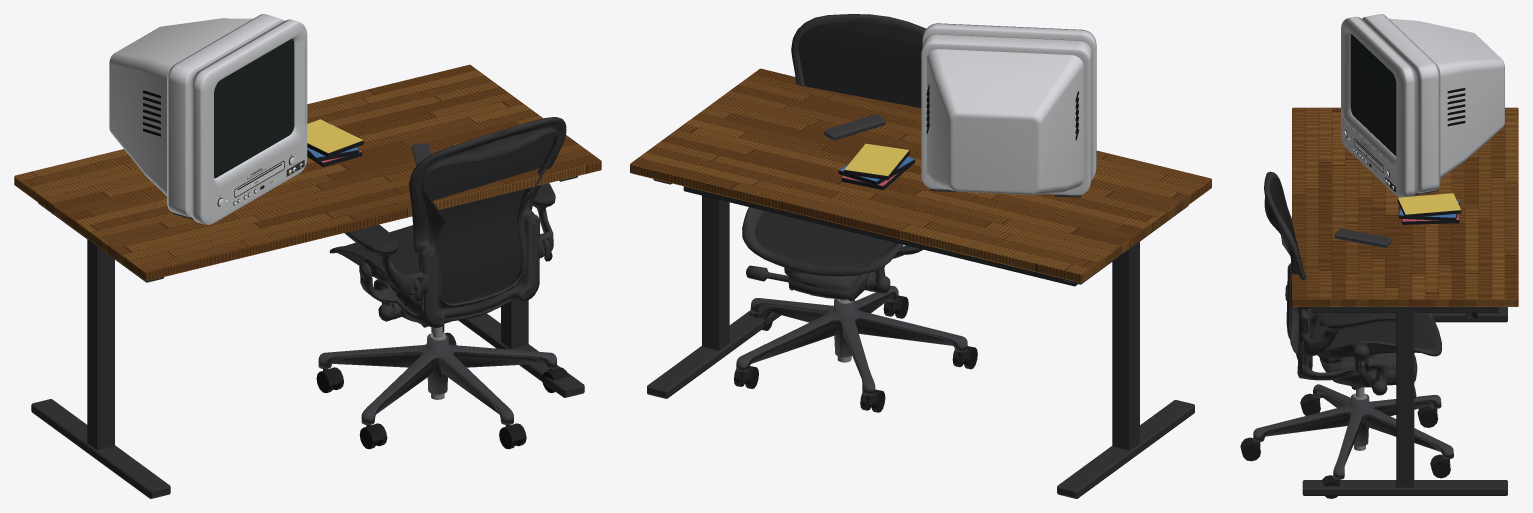
File: props.glb
The picture shows the model from 3 angles, left to right: view 1: azimuth 30°, elevation 25°; view 2: azimuth 150°, elevation 25°; view 3: azimuth 270°, elevation 25°; orthographic projection. The views are drawn at different scales.
Visible parts, largest first — view 1: Cube, SEAT-FABRICBACK, body, SEAT-FRAME, rear, glass, SEAT-BASE, Cube.001, back_shell, SEAT-CHASSIS, Cube.002, SEAT-CASTER (+5 smaller); view 2: Cube, rear, SEAT-FABRICBACK, SEAT-BASE, Cube.001, SEAT-FRAME, back_shell, SEAT-FABRIC, Cube.004, Cube.002, Cube.005, body (+5 smaller); view 3: Cube, rear, body, SEAT-BASE, back_shell, SEAT-FRAME, glass, SEAT-CHASSIS, Cube.004, Cube.005, SEAT-FABRIC, SEAT-CASTER (+6 smaller).
Part boxes in pixels (<box>): Cube: <box>14,64,601,281</box>; SEAT-FABRICBACK: <box>425,133,554,303</box>; body: <box>190,19,307,224</box>; SEAT-FRAME: <box>329,117,566,326</box>; rear: <box>109,18,252,195</box>; glass: <box>214,38,294,178</box>; SEAT-BASE: <box>318,325,557,424</box>; Cube.001: <box>87,239,114,449</box>; back_shell: <box>167,14,284,217</box>; SEAT-CHASSIS: <box>359,205,553,327</box>; Cube.002: <box>31,399,170,498</box>; SEAT-CASTER: <box>316,332,568,449</box>; Cube: <box>630,68,1211,283</box>; rear: <box>927,49,1083,194</box>; SEAT-FABRICBACK: <box>798,21,922,107</box>; SEAT-BASE: <box>736,286,967,395</box>; Cube.001: <box>1112,241,1139,450</box>; SEAT-FRAME: <box>742,14,925,290</box>; back_shell: <box>921,34,1092,195</box>; SEAT-FABRIC: <box>755,211,895,266</box>; Cube.004: <box>702,195,729,350</box>; Cube.002: <box>1057,400,1194,498</box>; Cube.005: <box>647,310,780,398</box>; body: <box>922,23,1096,179</box>; Cube: <box>1292,107,1518,306</box>; rear: <box>1389,18,1504,178</box>; body: <box>1341,16,1417,197</box>; SEAT-BASE: <box>1253,384,1453,479</box>; back_shell: <box>1362,14,1440,193</box>; SEAT-FRAME: <box>1264,171,1441,398</box>; glass: <box>1350,34,1396,156</box>; SEAT-CHASSIS: <box>1285,263,1417,395</box>; Cube.004: <box>1396,307,1414,487</box>; Cube.005: <box>1302,480,1507,495</box>; SEAT-FABRIC: <box>1313,313,1437,349</box>; SEAT-CASTER: <box>1240,393,1450,498</box>.
Size of the model in its own units: 1.5 by 1.23 by 0.9212.
25 materials, 1 textured.
